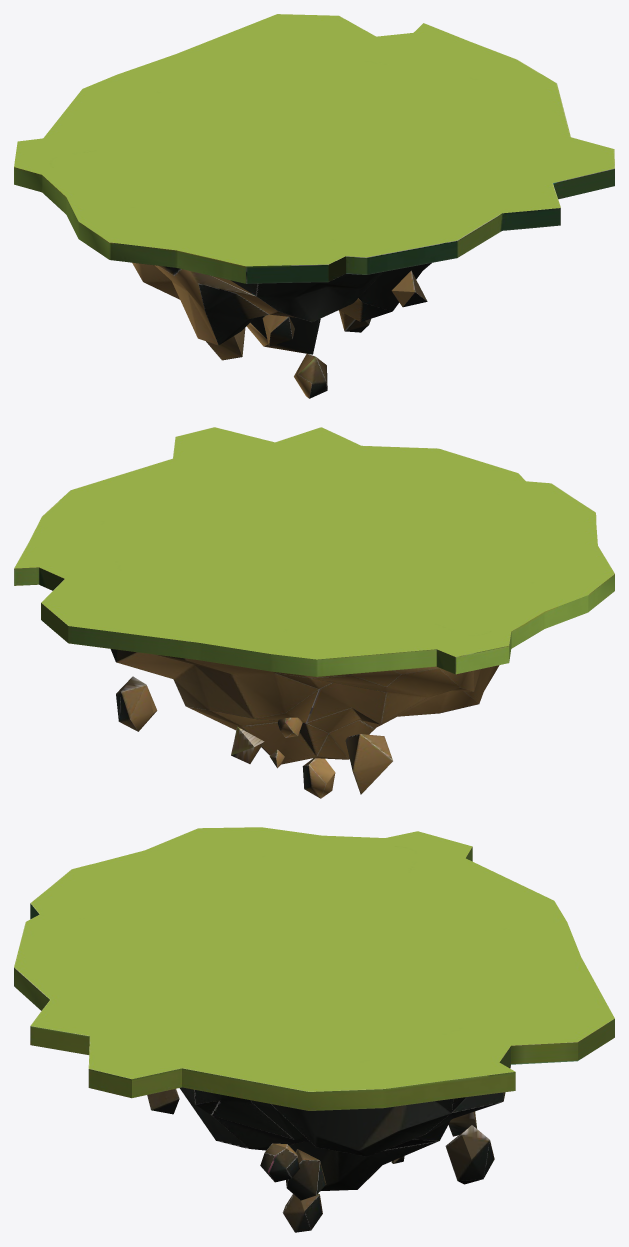
Rendered from island.gltf.
3 views of the same model, one above another, from view 1: azimuth 30°, elevation 25°; view 2: azimuth 150°, elevation 25°; view 3: azimuth 270°, elevation 25° (orthographic). The views are drawn at different scales.
Parts seen in each view (by area): view 1: Mesh_0; view 2: Mesh_0; view 3: Mesh_0.
Part boxes in pixels (x1,y1,x2,y2): Mesh_0: (14, 14, 614, 398); Mesh_0: (14, 427, 614, 798); Mesh_0: (14, 827, 614, 1232).
Size of the model in its own units: 15.83 by 7.58 by 15.18.
Materials: 1 (1 with a texture image).
